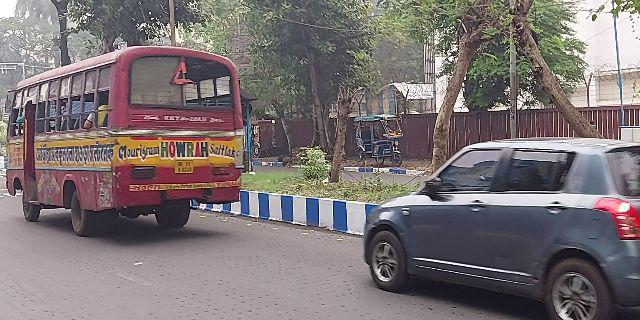Bus: (4, 41, 244, 221)
Car: (362, 140, 640, 311)
